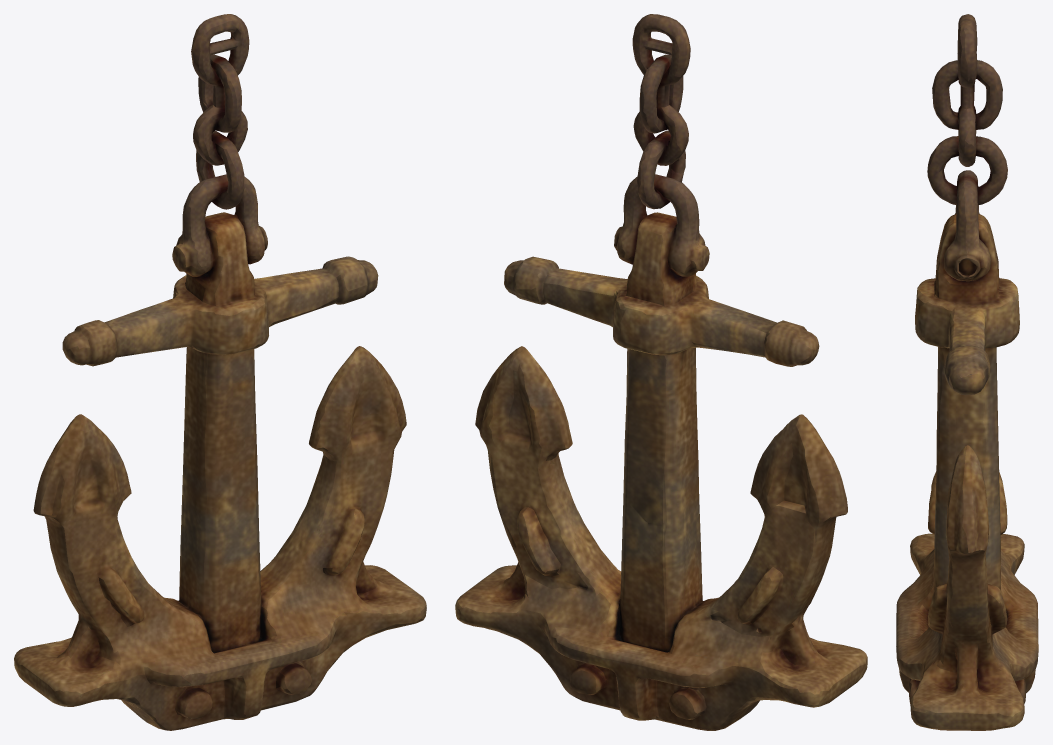
File: lm_anchor.glb
3 views of the same model, side by side, from view 1: azimuth 30°, elevation 25°; view 2: azimuth 150°, elevation 25°; view 3: azimuth 270°, elevation 25° (orthographic).
Visible parts, largest first — view 1: world; view 2: world; view 3: world.
Boxes of the visible parts, left/top/right/bottom form: world: left=14, top=14, right=426, bottom=730; world: left=455, top=14, right=867, bottom=730; world: left=896, top=14, right=1038, bottom=730.
Bounding box in the file's own units: 13.56 × 24 × 4.58.
Materials: 1 (1 with a texture image).
